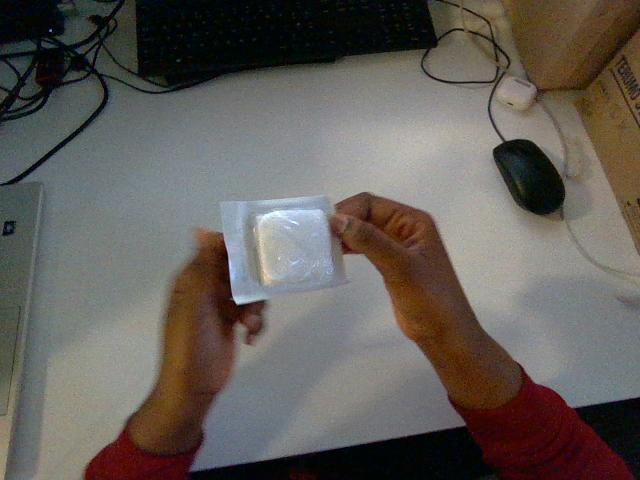gauze: (221, 196, 346, 304)
